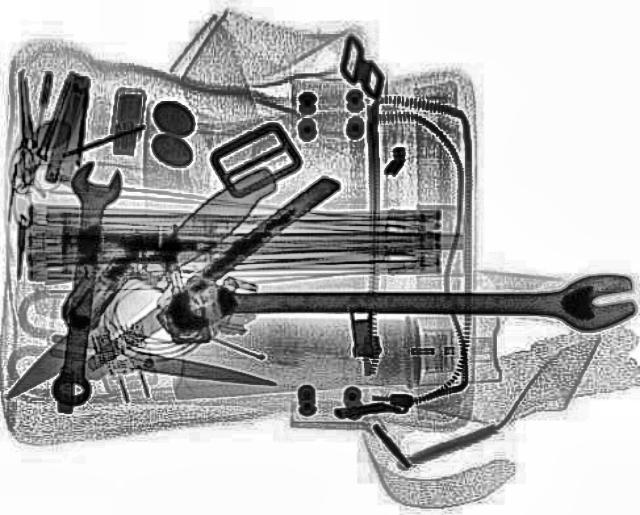Gun: (57, 227, 259, 334)
Knife: (1, 157, 288, 397), (64, 171, 342, 379), (41, 330, 276, 395)
Wrench: (166, 270, 634, 334), (41, 159, 122, 406)
